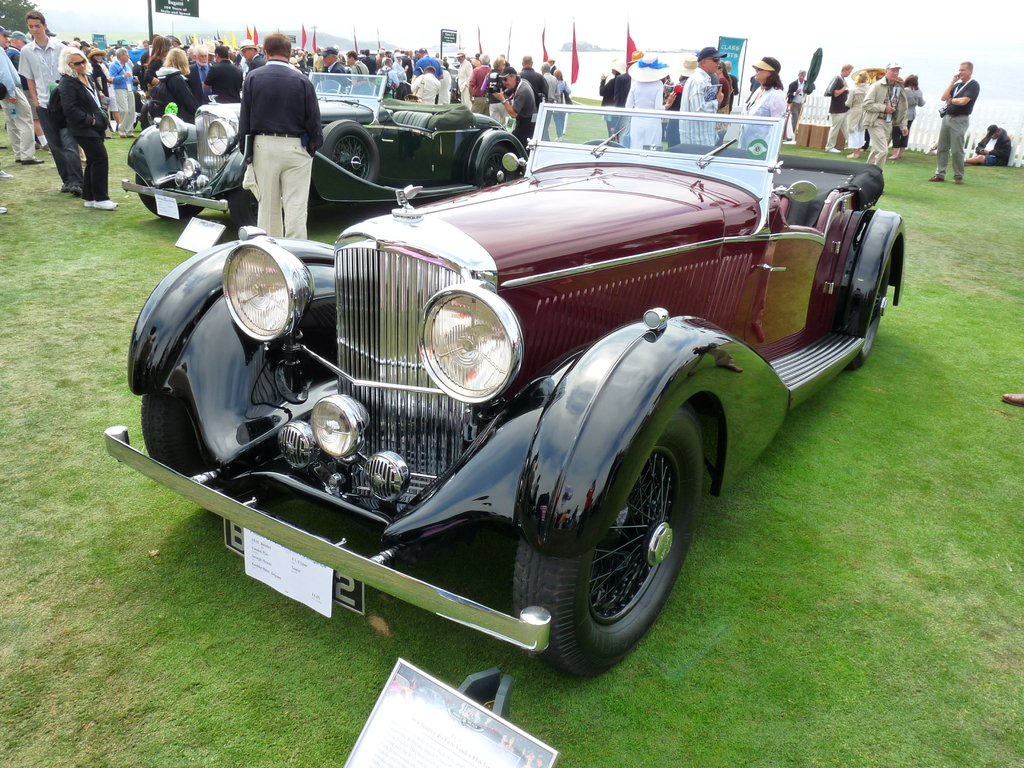Car: (107, 99, 906, 681), (123, 70, 521, 225)
